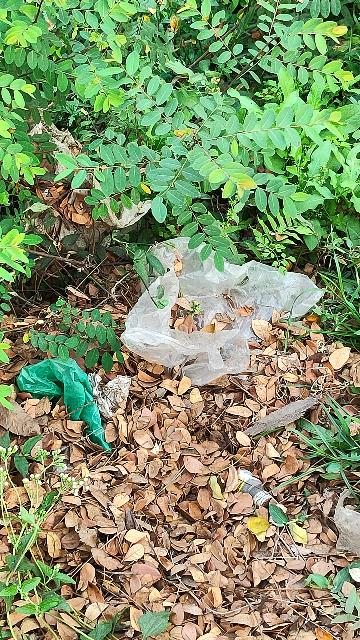polythene: (130, 233, 322, 377)
